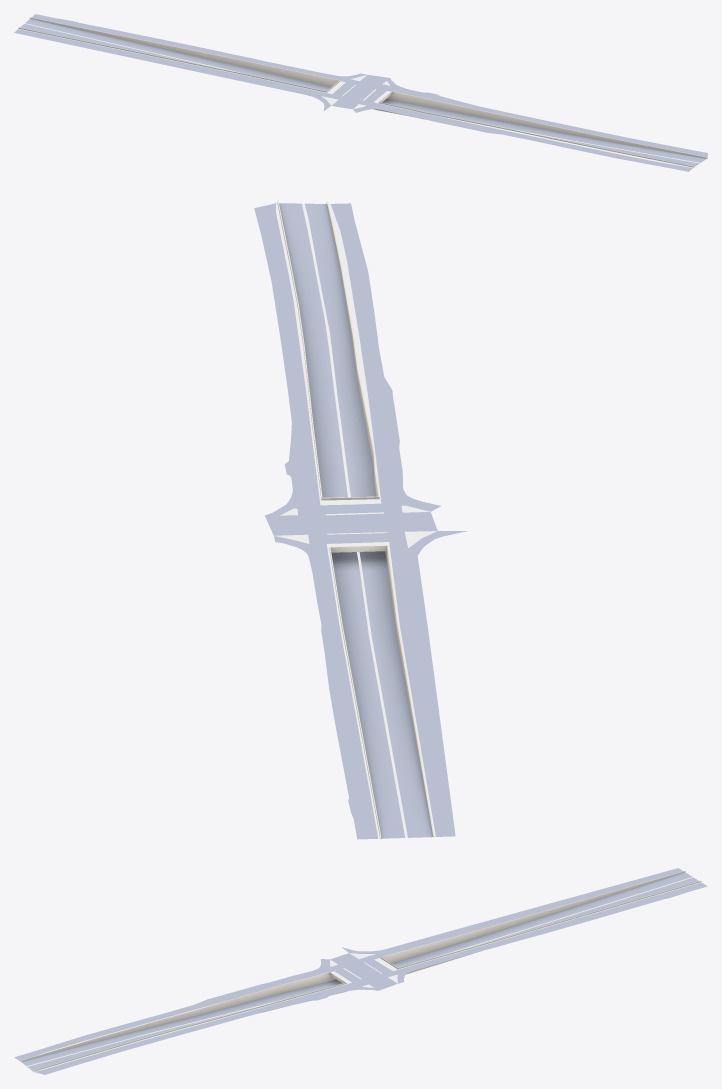
Rendered from Saina-Shalyapina.glb.
3 renders of one model, top to bottom at view 1: azimuth 30°, elevation 25°; view 2: azimuth 150°, elevation 25°; view 3: azimuth 270°, elevation 25°, orthographic. The views are drawn at different scales.
Parts seen in each view (by area): view 1: group_3, group_2.001, group_4.007; view 2: group_3, group_4.007, group_2.001; view 3: group_3, group_2.001, group_4.007.
Part boxes in pixels (<box>): group_3: <box>14,14,707,171</box>; group_2.001: <box>18,17,707,167</box>; group_4.007: <box>19,23,700,167</box>; group_3: <box>254,203,467,839</box>; group_4.007: <box>274,203,436,838</box>; group_2.001: <box>277,200,434,839</box>; group_3: <box>14,868,707,1074</box>; group_2.001: <box>20,870,701,1071</box>; group_4.007: <box>20,877,701,1071</box>.
Size of the model in its own units: 385 by 8 by 545.
Materials: 4 (2 with a texture image).
